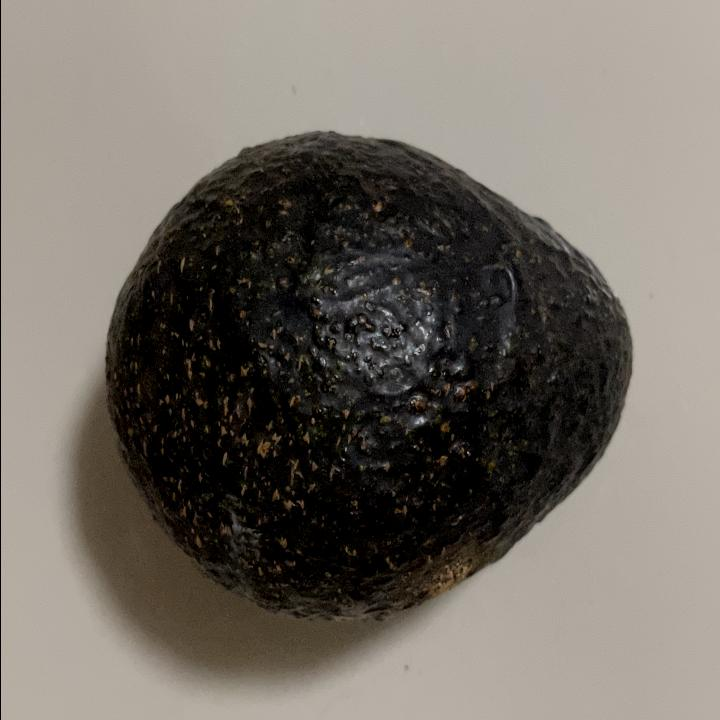Level2: (100, 125, 638, 632)
